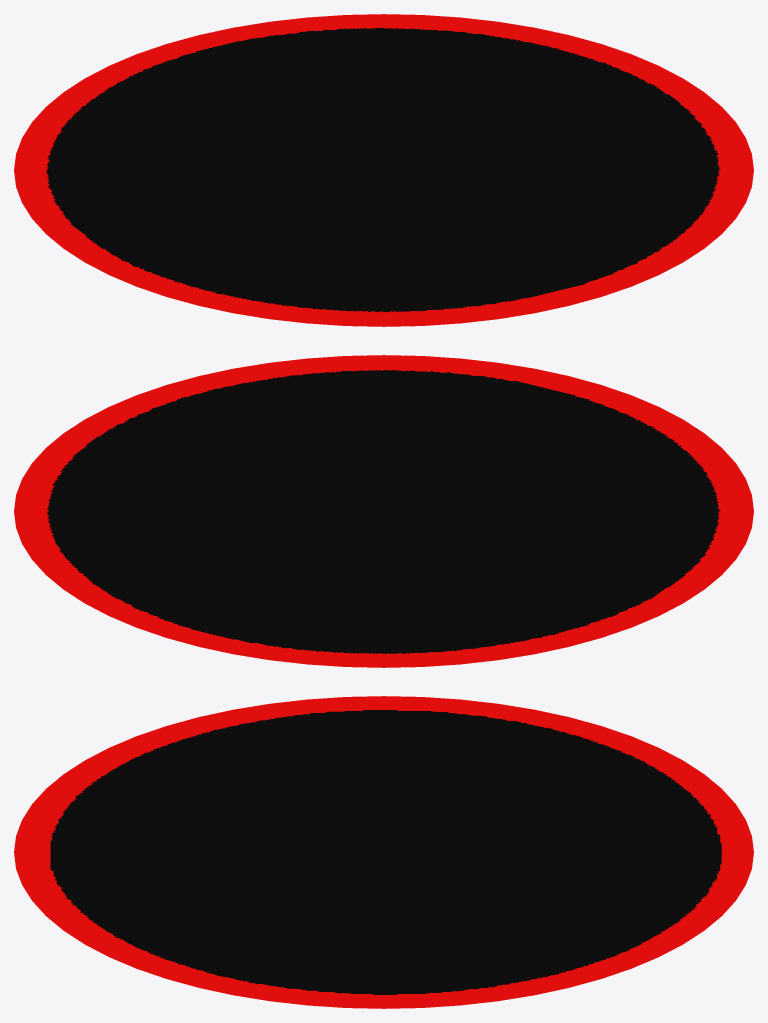
File: damage_area_360.fbx
The picture shows the model from 3 angles, top to bottom: view 1: azimuth 30°, elevation 25°; view 2: azimuth 150°, elevation 25°; view 3: azimuth 270°, elevation 25°; orthographic projection.
Visible parts, largest first — view 1: frame; view 2: frame; view 3: frame.
Part boxes in pixels (x1,y1,x2,y2): frame: (14, 14, 753, 326); frame: (14, 355, 753, 667); frame: (14, 696, 753, 1008).
Bounding box in the file's own units: 100 × 0 × 100.
